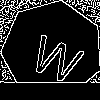W: (27, 26, 89, 86)
